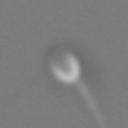normal: (77, 80, 109, 128)
